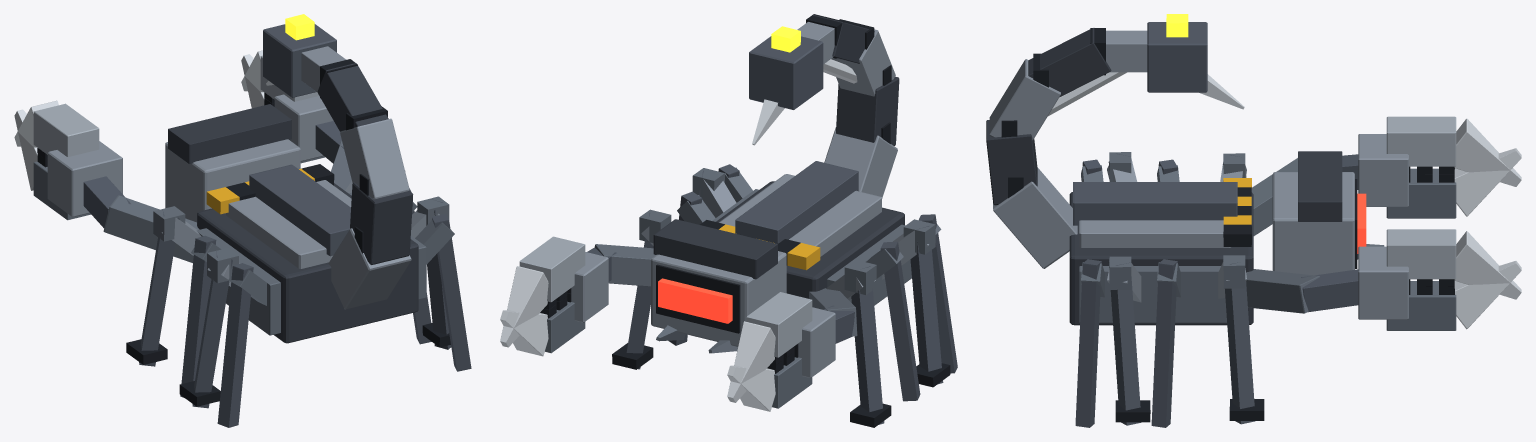
The model's file is mecha-scorpio.glb.
3 renders of one model, left to right at view 1: azimuth 30°, elevation 25°; view 2: azimuth 150°, elevation 25°; view 3: azimuth 270°, elevation 25°, orthographic.
Visible parts, largest first — view 1: body, tail, arm.R, head, arm.L, leg.FR, leg.BR, leg.BL; view 2: body, tail, head, arm.L, arm.R, leg.FR, leg.BR, leg.FL, leg.BL; view 3: body, tail, arm.L, arm.R, head, leg.BL, leg.FL, leg.BR, leg.FR.
Part boxes in pixels (x1,y1,x2,y2): body: (180,164,471,427); tail: (263,14,413,309); arm.R: (14,100,199,262); head: (165,104,300,222); arm.L: (241,50,351,190); leg.FR: (126,206,201,366); leg.BR: (179,248,240,408); leg.BL: (411,196,451,349); body: (668,161,957,401); tail: (749,14,899,198); head: (651,219,786,353); arm.L: (500,236,655,356); arm.R: (727,288,857,411); leg.FR: (826,260,891,427); leg.BR: (882,219,950,387); leg.FL: (612,209,671,369); leg.BL: (692,168,736,217); body: (1069,159,1253,427); tail: (986,14,1244,268); arm.L: (1246,229,1521,330); arm.R: (1251,116,1521,235); head: (1272,151,1384,275); leg.BL: (1107,256,1150,425); leg.FL: (1218,255,1264,424); leg.BR: (1107,152,1137,181); leg.FR: (1220,153,1246,181).
Bounding box in the file's own units: 0.8477 × 1 × 1.39.
